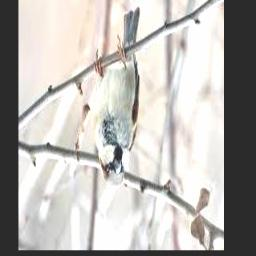Sparrow: (94, 8, 140, 187)
